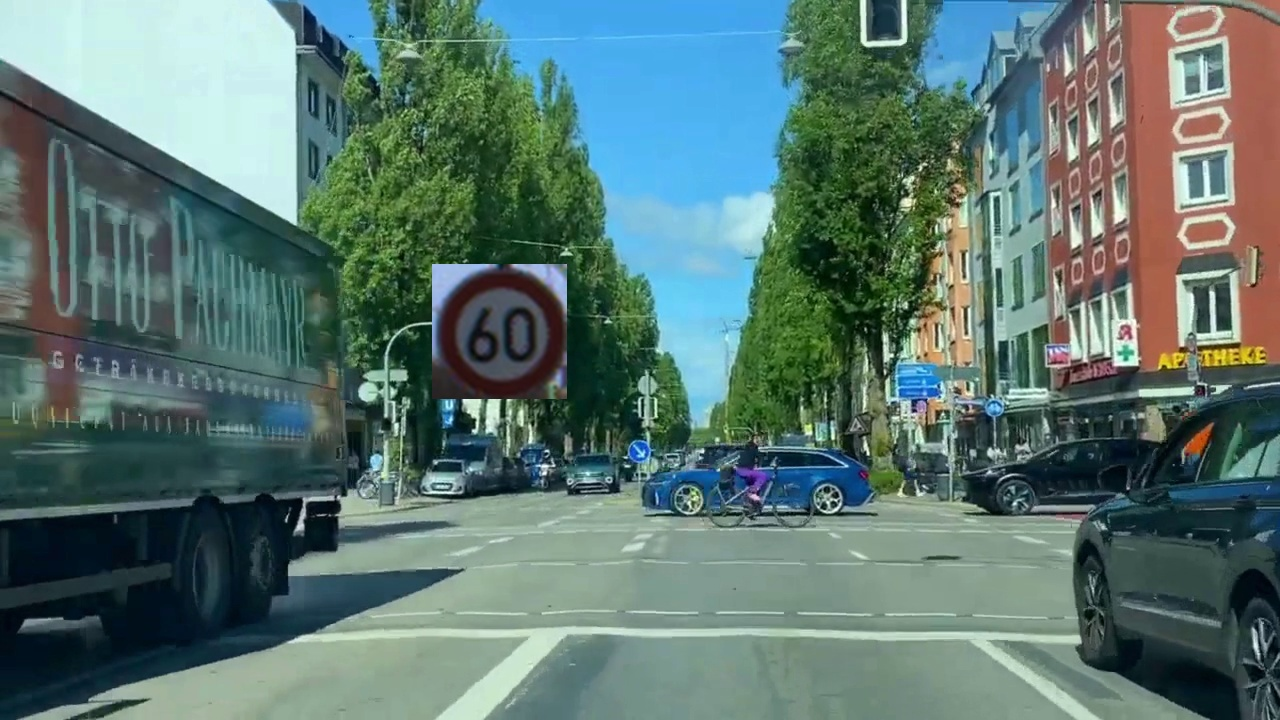Speed 60: (432, 264, 567, 399)
